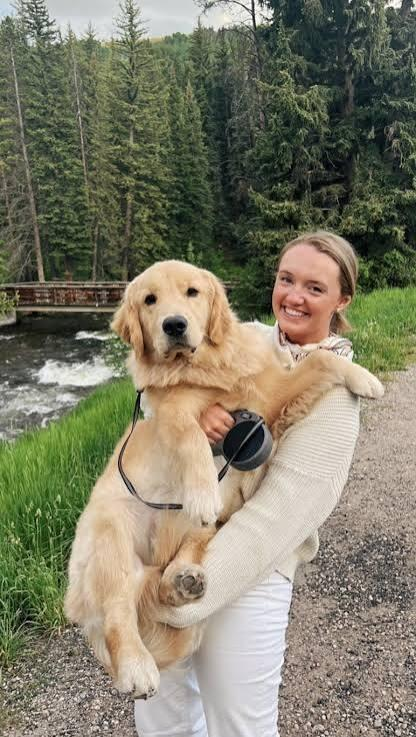adult_dog: (65, 255, 391, 697)
non-dog: (133, 224, 364, 733)
